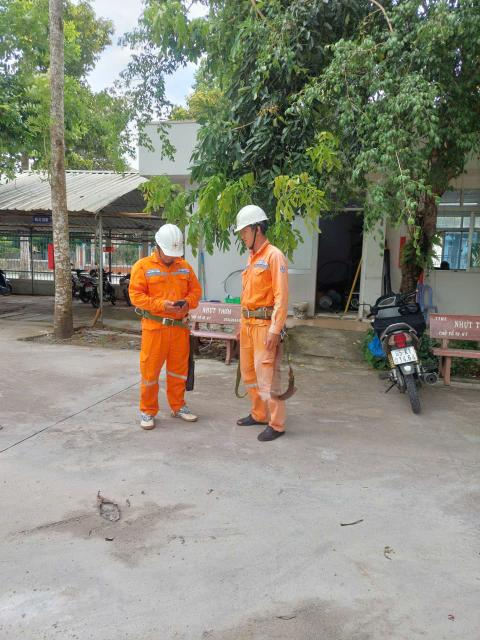harness: (127, 299, 197, 329), (228, 302, 292, 322)
helmet: (223, 202, 283, 233), (149, 222, 191, 261)
shoes: (130, 402, 169, 434), (163, 402, 206, 430), (230, 406, 278, 427), (262, 424, 293, 449)
